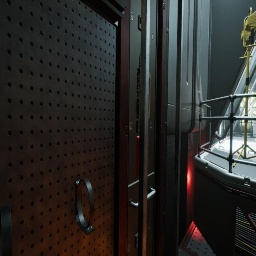EmergencyPhone ,: (136, 53, 151, 119)
FireAlarm ,: (136, 136, 149, 177)
